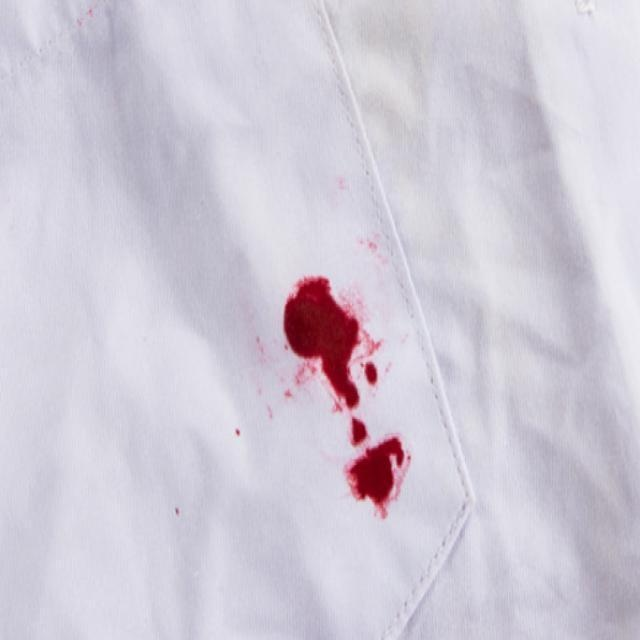blood: (281, 271, 387, 411), (345, 419, 407, 517)
